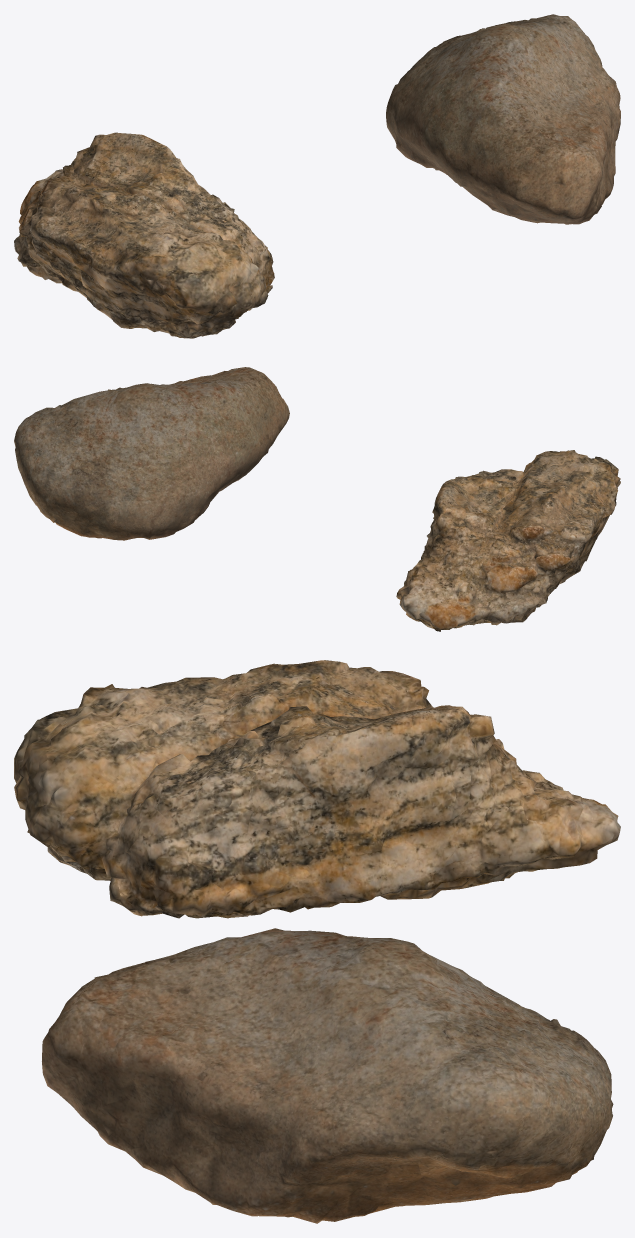
The model's file is namaqualand_boulders_01_game.glb.
The picture shows the model from 3 angles, top to bottom: view 1: azimuth 30°, elevation 25°; view 2: azimuth 150°, elevation 25°; view 3: azimuth 270°, elevation 25°; orthographic projection. The views are drawn at different scales.
Parts seen in each view (by area): view 1: namaqualand_rocks_01_a, namaqualand_rocks_01_b; view 2: namaqualand_rocks_01_a, namaqualand_rocks_01_b; view 3: namaqualand_rocks_01_a, namaqualand_rocks_01_b.
Part boxes in pixels (box(x1,y1,x2,y2)): namaqualand_rocks_01_a: box(386, 14, 620, 224); namaqualand_rocks_01_b: box(14, 132, 274, 338); namaqualand_rocks_01_a: box(14, 367, 289, 540); namaqualand_rocks_01_b: box(396, 450, 620, 631); namaqualand_rocks_01_a: box(42, 928, 613, 1223); namaqualand_rocks_01_b: box(14, 660, 620, 918).
Size of the model in its own units: 1.06 by 0.2513 by 0.585.
Materials: 1 (1 with a texture image).
